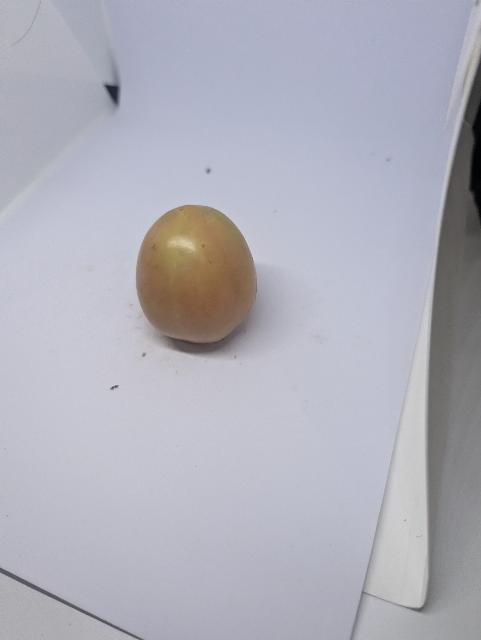breaker: (136, 205, 257, 343)
